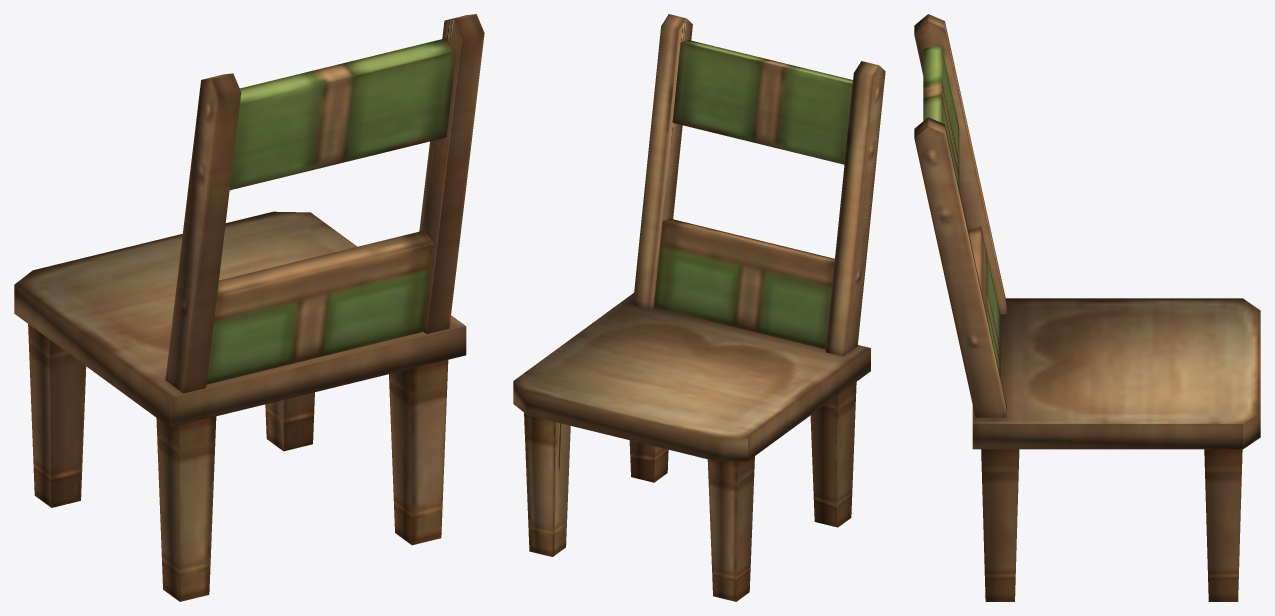
Rendered from c_SWIchair07.glb.
3 renders of one model, left to right at view 1: azimuth 30°, elevation 25°; view 2: azimuth 150°, elevation 25°; view 3: azimuth 270°, elevation 25°, orthographic. The views are drawn at different scales.
Visible parts, largest first — view 1: c_SWIchair07; view 2: c_SWIchair07; view 3: c_SWIchair07.
Boxes of the visible parts, x1,y1,x2,y2 form: c_SWIchair07: (14, 14, 484, 601); c_SWIchair07: (513, 14, 885, 601); c_SWIchair07: (914, 14, 1260, 601).
Size of the model in its own units: 0.64 by 1.13 by 0.7454.
1 material, 1 textured.
